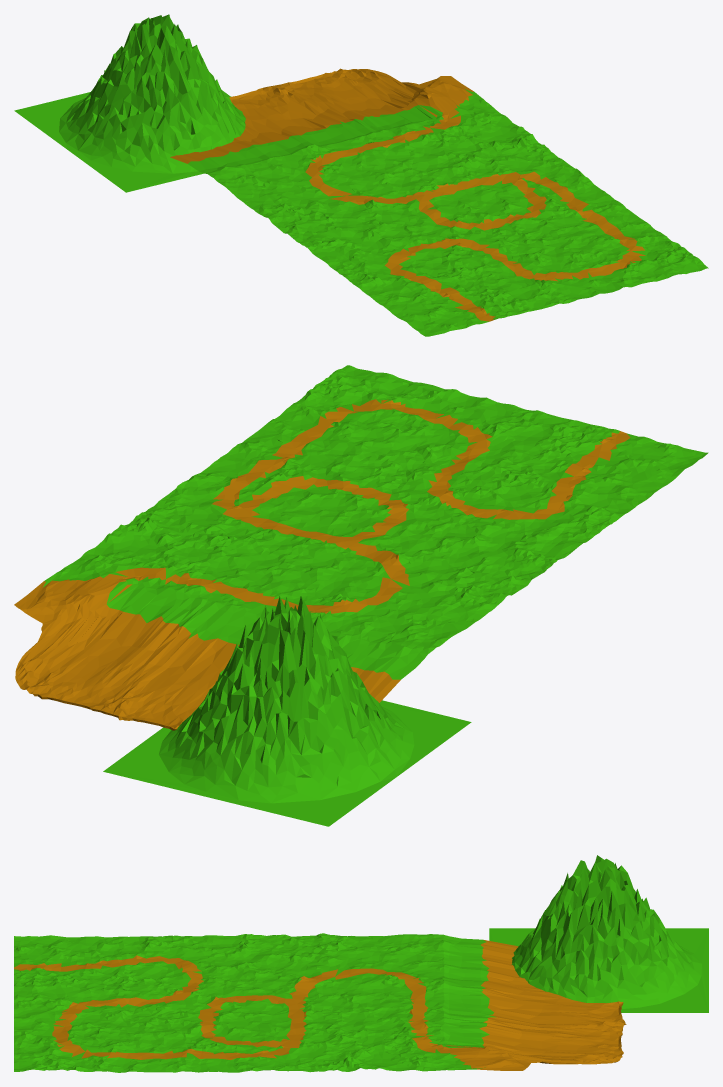
Rendered from baseTerrain.glb.
3 views of the same model, one above another, from view 1: azimuth 30°, elevation 25°; view 2: azimuth 150°, elevation 25°; view 3: azimuth 270°, elevation 25° (orthographic). The views are drawn at different scales.
Parts seen in each view (by area): view 1: Landscape.001, Landscape.002; view 2: Landscape.001, Landscape.002; view 3: Landscape.001, Landscape.002.
Part boxes in pixels (box(x1,y1,x2,y2)): Landscape.001: box(170, 68, 708, 336); Landscape.002: box(14, 14, 245, 192); Landscape.001: box(14, 365, 708, 730); Landscape.002: box(103, 596, 471, 826); Landscape.001: box(14, 933, 626, 1072); Landscape.002: box(489, 855, 708, 1012).
Bounding box in the file's own units: 60.3 × 19.41 × 108.
